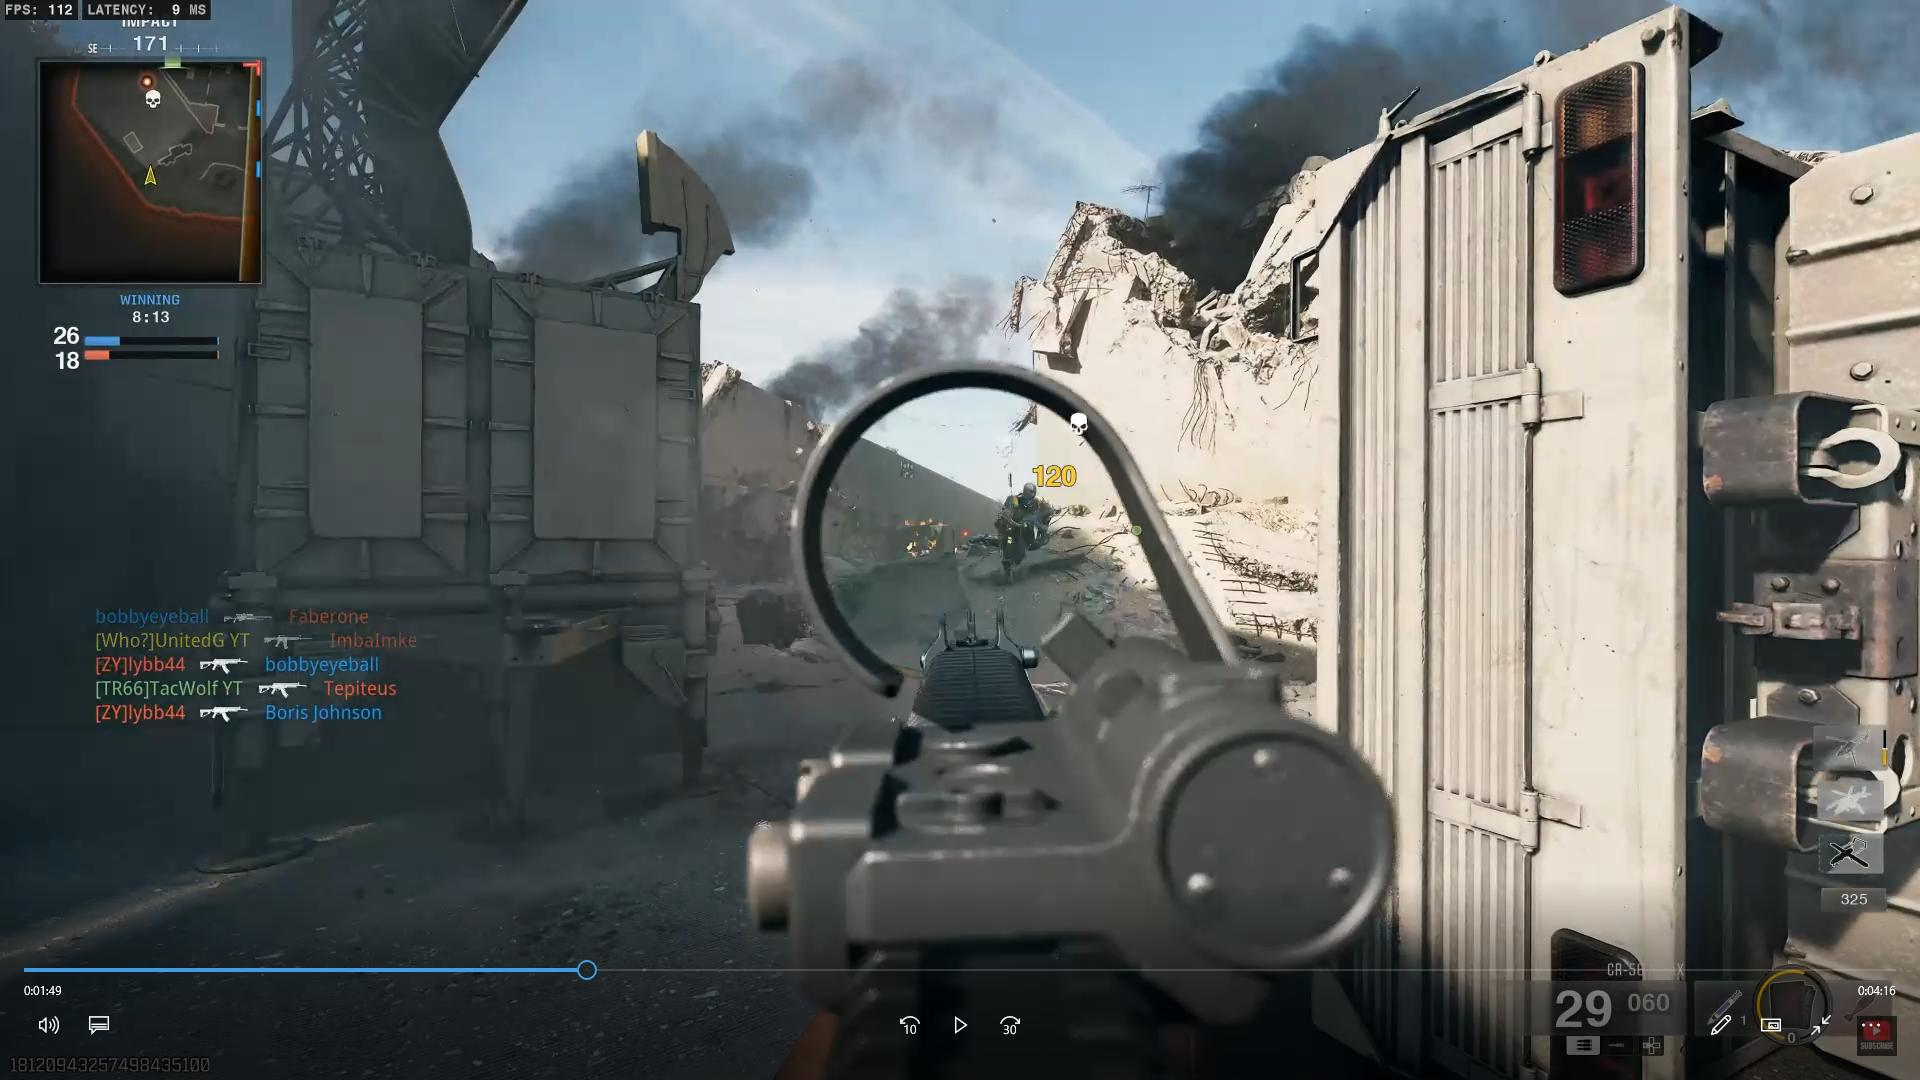Enemy: (992, 477, 1043, 572)
